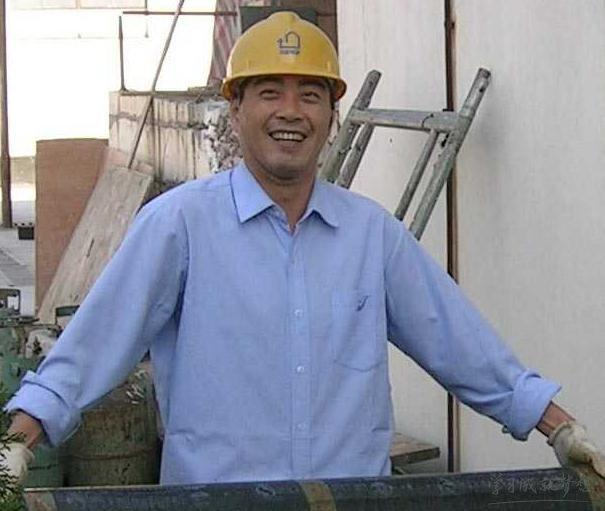helmet: (218, 8, 352, 175)
